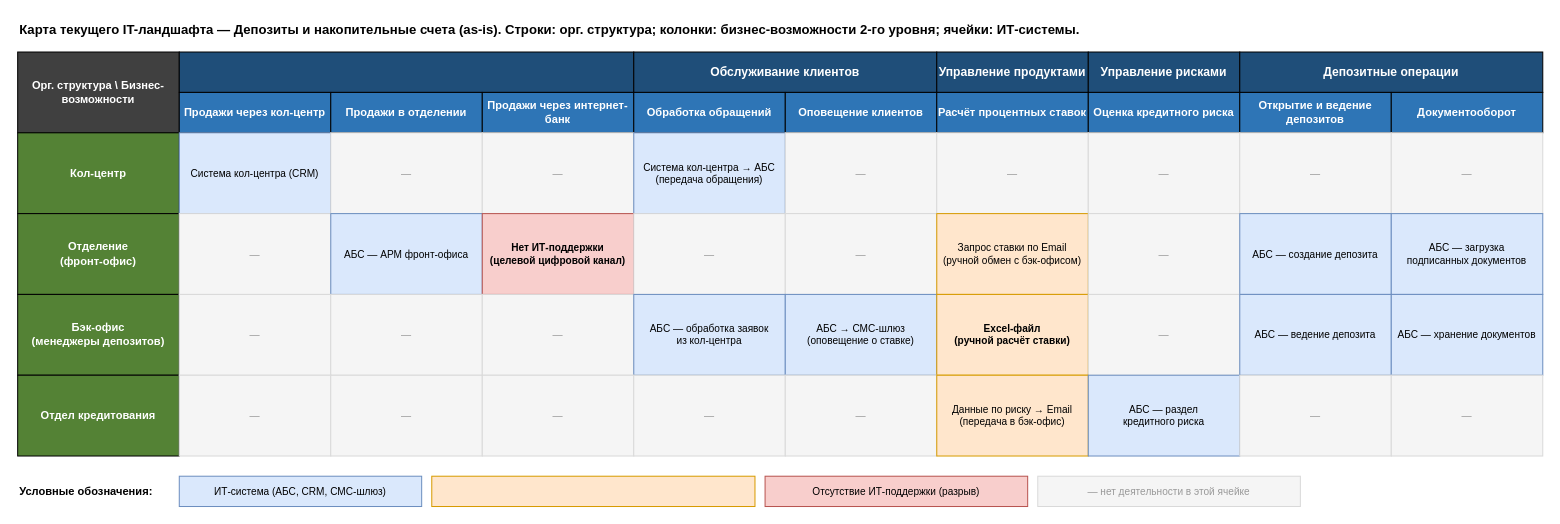
Some shapes in this 1560 by 524 pixel diagram are drawn without their labels. Each missing label, with the centre of its shape:
Продажи: the point at 406,71
Ручной инструмент (Excel, Email) — узкое место: the point at 593,491
